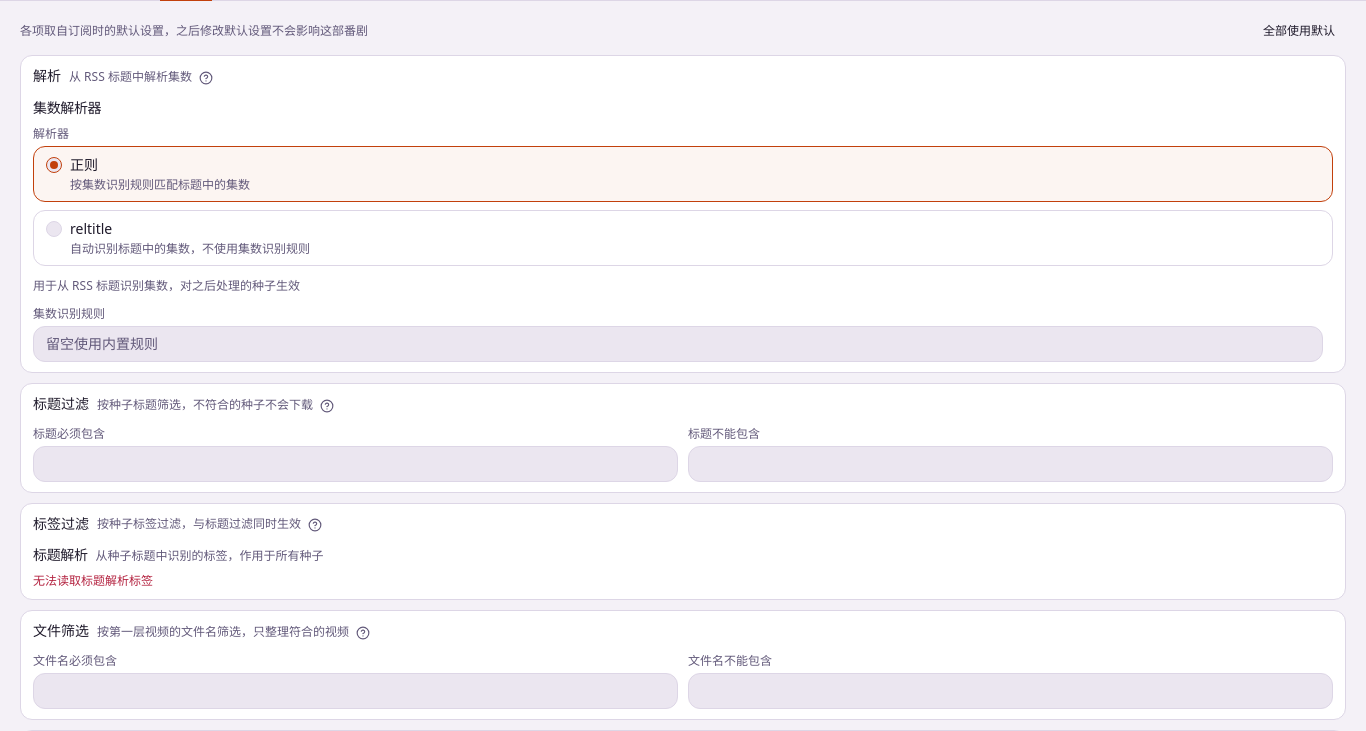
AnimeTabs owner 编辑保活 › 集数解析器卡的未保存选择上报到弹窗，关闭前会询问
This screenshot has width=1366, height=731.
Expected: the element named "解析器" is shown, [33,146,1333,266]
Click the radio button named "reltitle" next to "reltitle": (54, 229) [46,221,62,237]
(page scrolled)
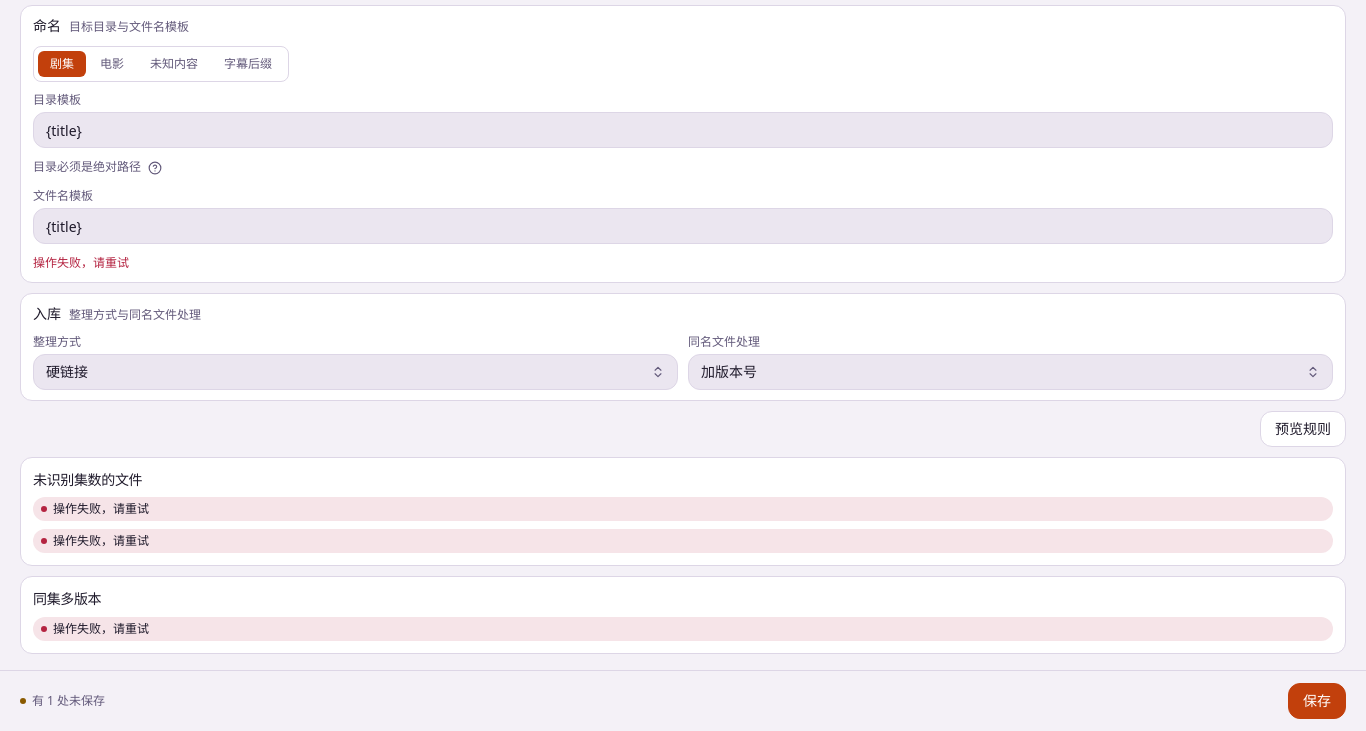
Expected: the element with class "anime-config-dialog-footer-owner" is shown, [0,670,1365,730]
Result: the button "保存" is enabled at [1288,683,1346,719]
